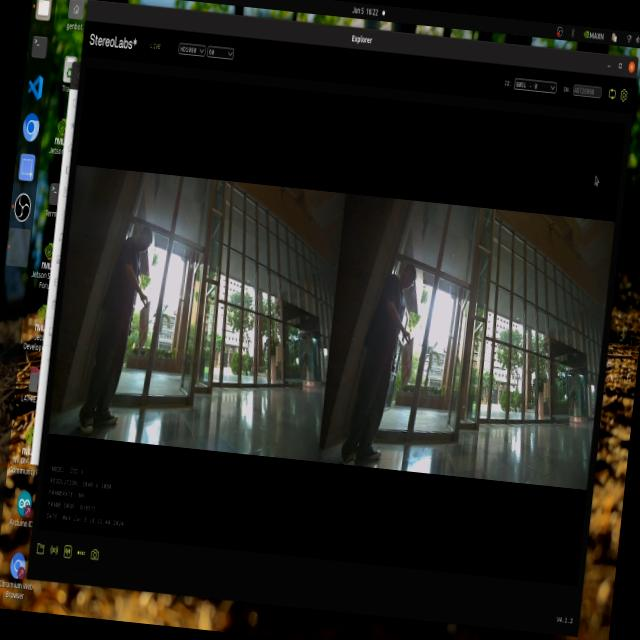red: (138, 302, 153, 348), (398, 346, 414, 388)
